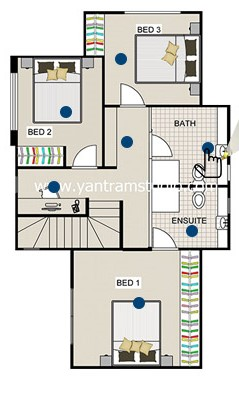room: (69, 247, 202, 369), (14, 54, 104, 168), (104, 11, 202, 105)
